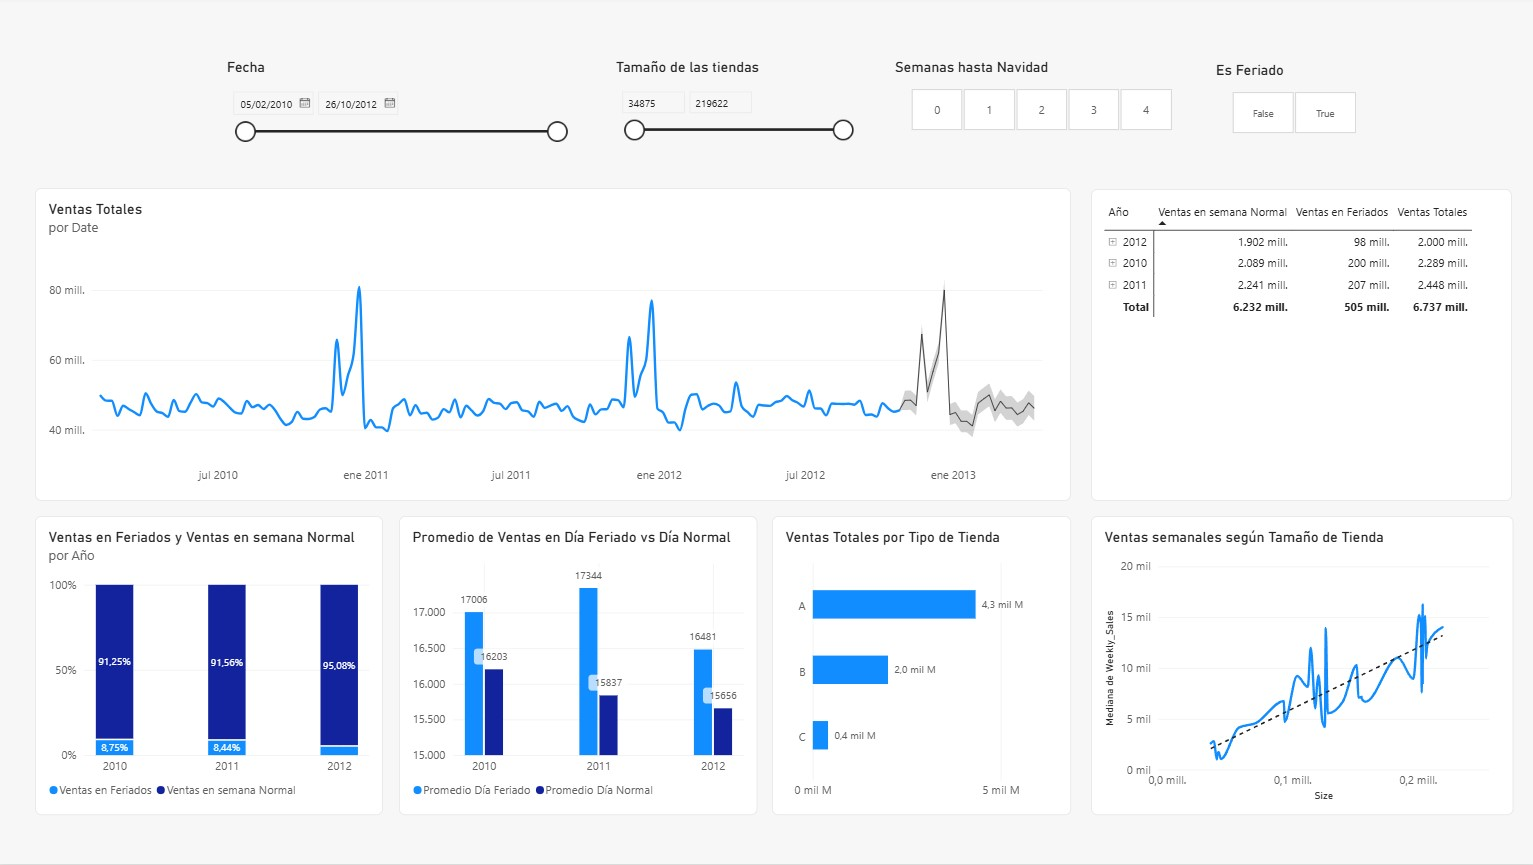

This screenshot's page, from the dashboard's own definition file:
{"tool":"powerbi","page":{"name":"Página 1","canvas":[1920,1080],"ordinal":0},"visuals":[{"type":"pivotTable","fields":{"Rows":["Calendario.Date.Variación.Jerarquía de fechas.Año","Calendario.Date.Variación.Jerarquía de fechas.Trimestre","Calendario.Date.Variación.Jerarquía de fechas.Mes","Calendario.Date.Variación.Jerarquía de fechas.Día"],"Values":["_Medidas.Ventas en semana","_Medidas.Ventas en Feriados","_Medidas.Ventas Totales"]},"box":[1302.6,237.1,525.5,389.9],"z":0},{"type":"lineChart","fields":{"Category":["Calendario.Date"],"Y":["Sum(train.Weekly_Sales)"]},"box":[72.4,237.1,1186.7,389.9],"z":1000},{"type":"clusteredBarChart","fields":{"Category":["stores.Type"],"Y":["Sum(train.Weekly_Sales)"]},"box":[1467.2,645.4,360.9,374],"z":2000},{"type":"hundredPercentStackedColumnChart","fields":{"Category":["Calendario.Date.Variación.Jerarquía de fechas.Año","Calendario.Date.Variación.Jerarquía de fechas.Trimestre","Calendario.Date.Variación.Jerarquía de fechas.Mes","Calendario.Date.Variación.Jerarquía de fechas.Día"],"Y":["_Medidas.Ventas en Feriados","_Medidas.Ventas en semana"]},"box":[72.4,645.4,426.7,374],"z":3000},{"type":"slicer","title":"Fecha","fields":{"Values":["Calendario.Date"]},"box":[284.5,72.4,429.4,122.5],"z":8000},{"type":"slicer","title":"Es Feriado","fields":{"Values":["features.IsHoliday"]},"box":[1521.2,76.4,193.6,92.2],"z":9000},{"type":"slicer","title":"Semanas hasta Navidad","fields":{"Values":["train.Weeks_Until_Christmas"]},"box":[1119.5,72.4,364.8,92.2],"z":10000},{"type":"slicer","title":"Tamaño de las tiendas","fields":{"Values":["stores.Size"]},"box":[771.8,72.4,300.3,126.4],"z":10002},{"type":"lineChart","title":"Ventas semanales según Tamaño de Tienda","fields":{"Category":["stores.Size"],"Y":["Median(train.Weekly_Sales)"]},"box":[910.1,645.4,528.1,374],"z":10003},{"type":"lineClusteredColumnComboChart","fields":{"Category":["Calendario.Date.Variación.Jerarquía de fechas.Año"],"Y":["_Medidas.Promedio Día Feriado","_Medidas.Promedio Día Normal"]},"box":[528.1,645.4,362.2,374],"z":10004}]}

Visuals, with their boxes in screenshot pixels (x1, y1, x2, y2), scaled from the page's 1920x1080 canvas onto the 1533x865 screenshot:
pivotTable - Calendario.Date.Variación.Jerarquía de fechas.Año x Calendario.Date.Variación.Jerarquía de fechas.Trimestre: 1040/190/1460/502
lineChart - Calendario.Date x Sum(train.Weekly_Sales): 58/190/1005/502
clusteredBarChart - stores.Type x Sum(train.Weekly_Sales): 1171/517/1460/816
hundredPercentStackedColumnChart - Calendario.Date.Variación.Jerarquía de fechas.Año x Calendario.Date.Variación.Jerarquía de fechas.Trimestre: 58/517/399/816
"Fecha" slicer: 227/58/570/156
"Es Feriado" slicer: 1215/61/1369/135
"Semanas hasta Navidad" slicer: 894/58/1185/132
"Tamaño de las tiendas" slicer: 616/58/856/159
"Ventas semanales según Tamaño de Tienda" lineChart: 727/517/1148/816
lineClusteredColumnComboChart - Calendario.Date.Variación.Jerarquía de fechas.Año x _Medidas.Promedio Día Feriado: 422/517/711/816
